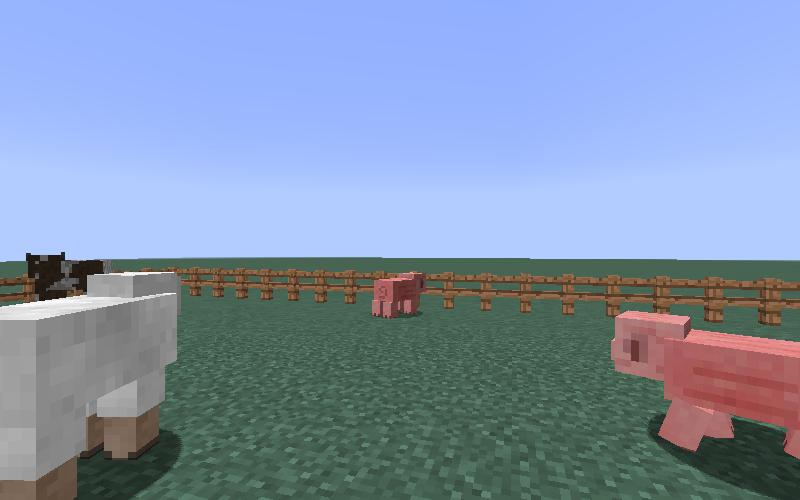cow: (26, 251, 111, 297)
pig: (605, 304, 800, 463), (369, 269, 429, 327)
sheep: (1, 265, 184, 500)
